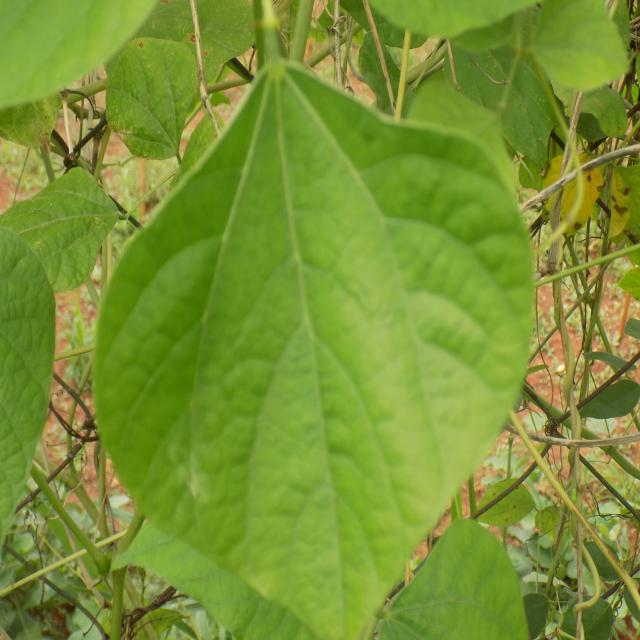Dolicos bean_healthy: (90, 63, 534, 640)
